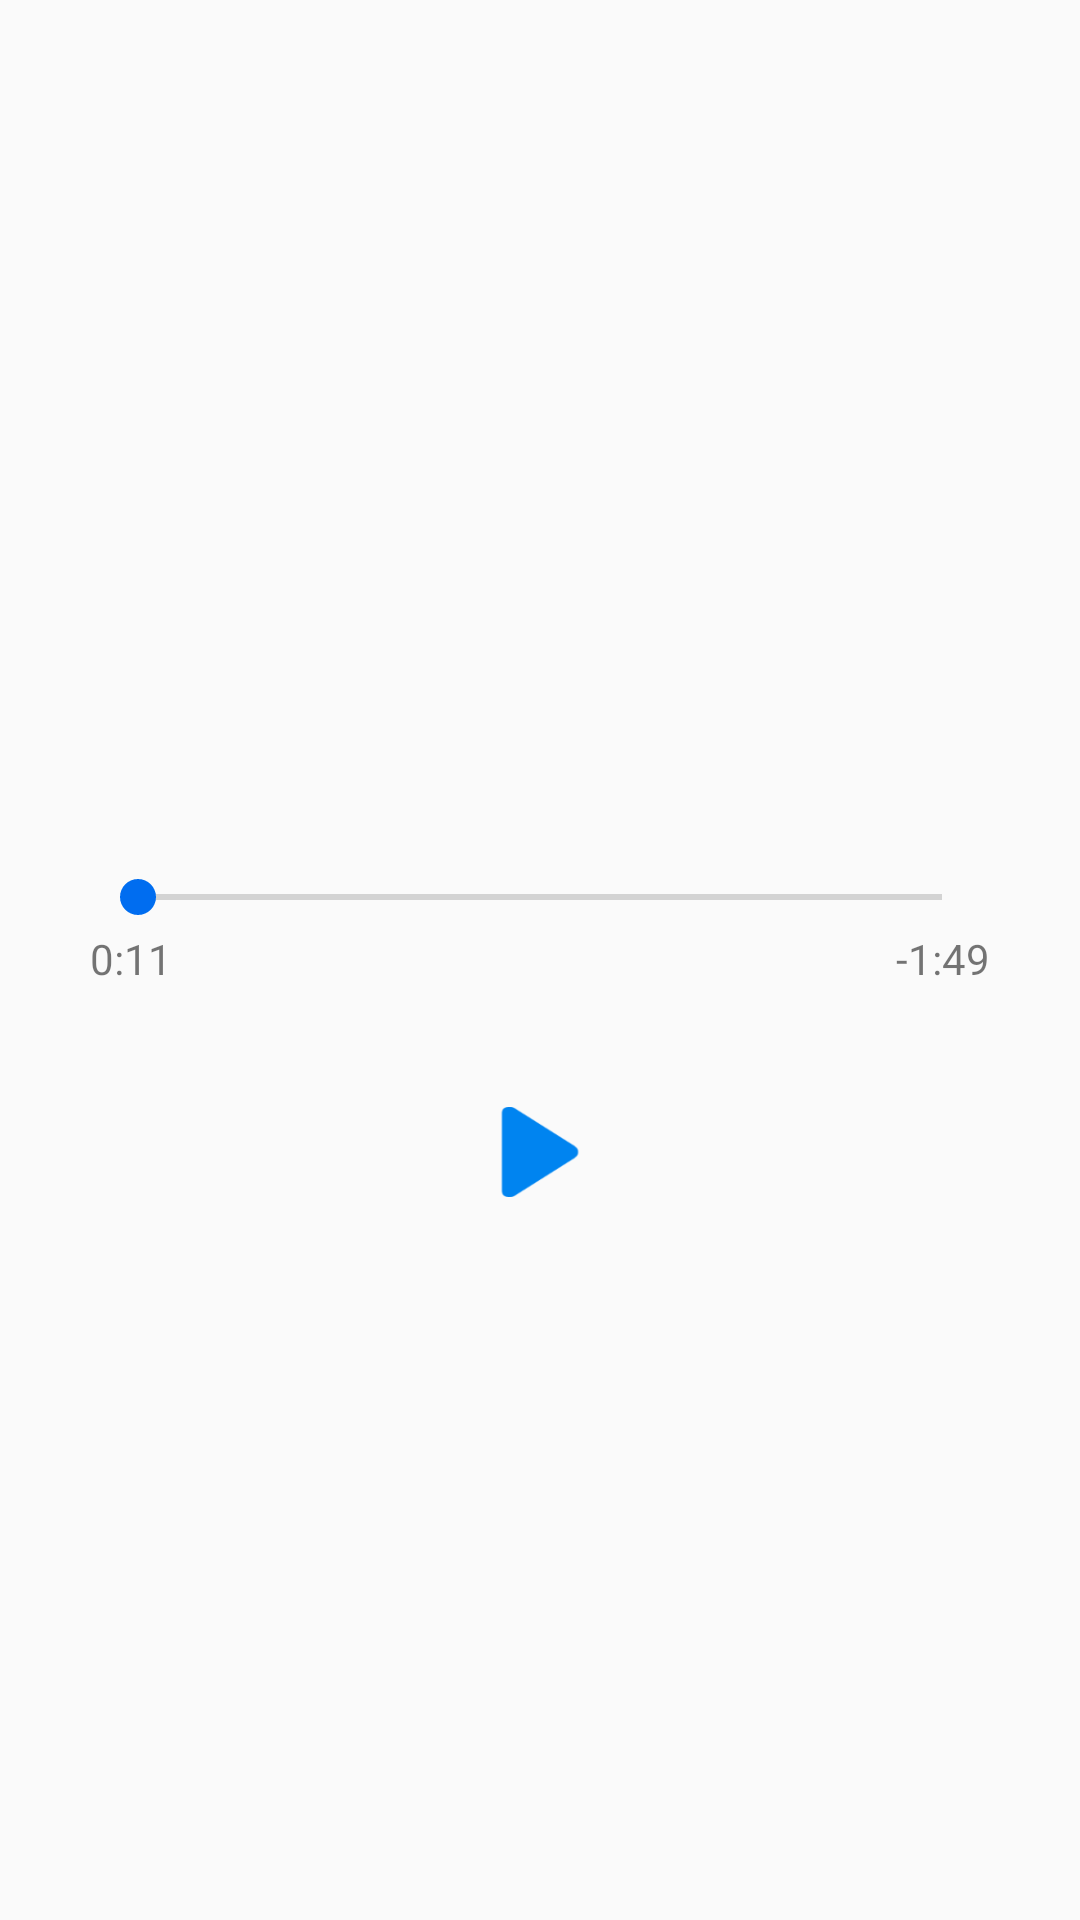

Icons on this 1080x1920 Android screen, each with its box as (x1, y1, x2, y2):
play: (501, 1107, 579, 1197)
